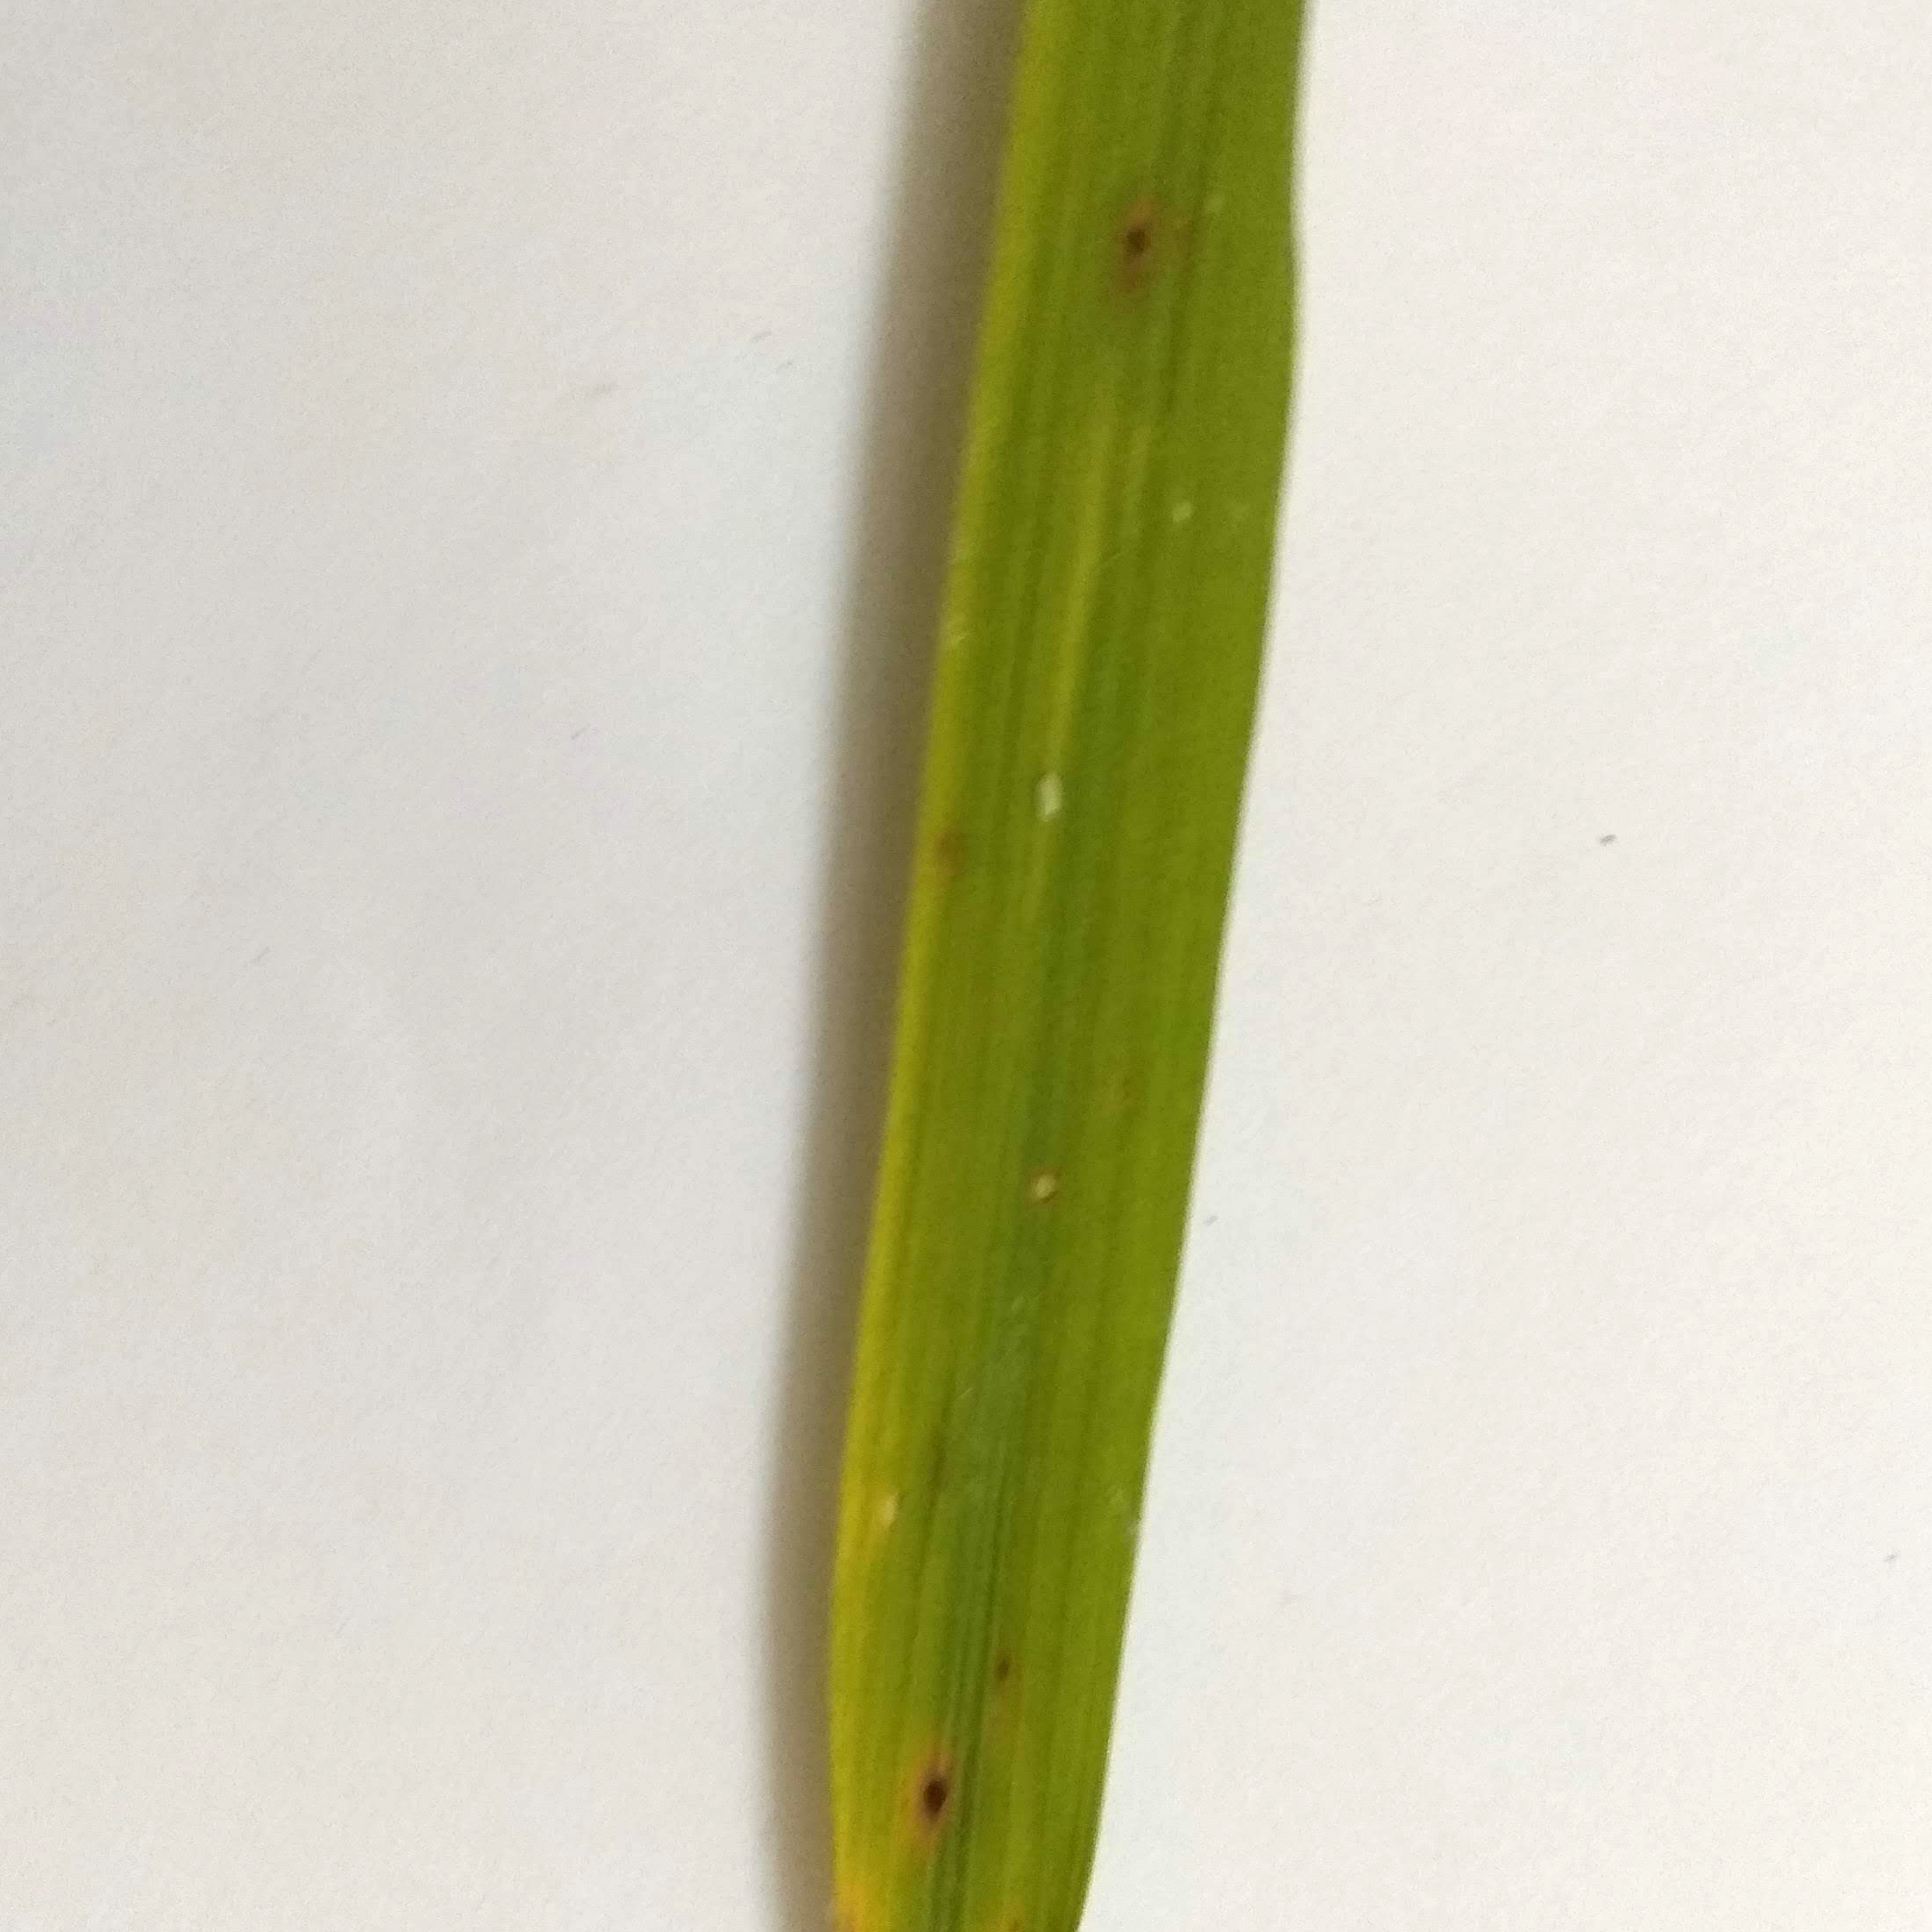brown spot: (1088, 182, 1178, 306), (899, 1755, 966, 1833), (913, 821, 975, 890), (985, 1642, 1031, 1697)
